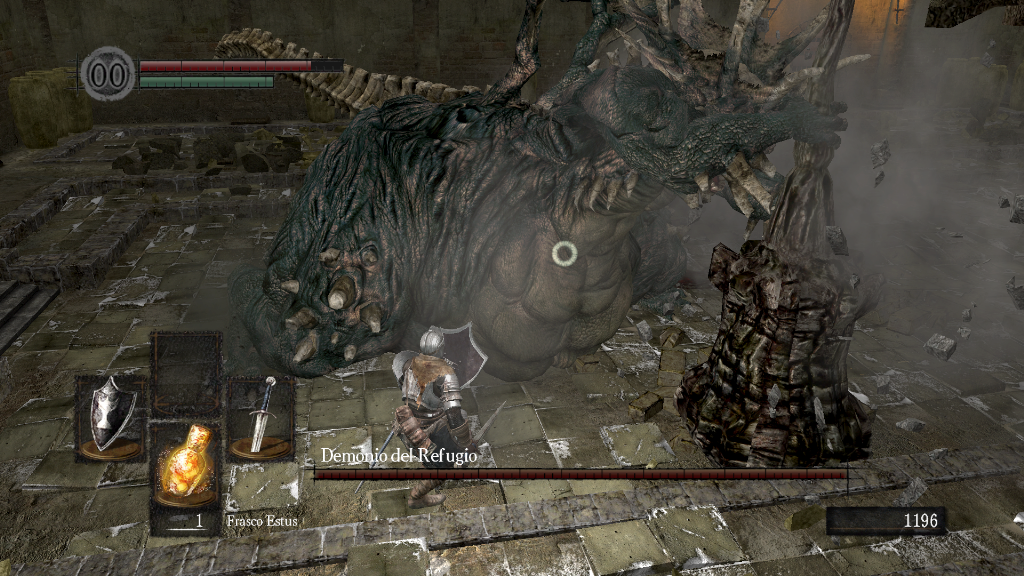asylumDemon: (215, 1, 892, 471)
bossHP: (314, 469, 847, 479)
health: (138, 58, 343, 71)
humanity: (80, 45, 136, 102)
player: (393, 322, 510, 508)
souls: (825, 506, 945, 536)
stamina: (138, 74, 274, 88)
